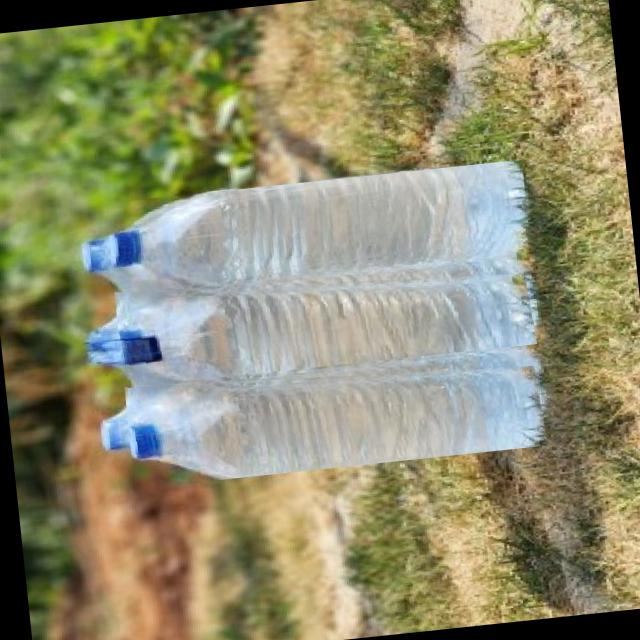plastic bottle: (124, 342, 549, 488), (114, 247, 538, 386), (102, 158, 531, 290)
